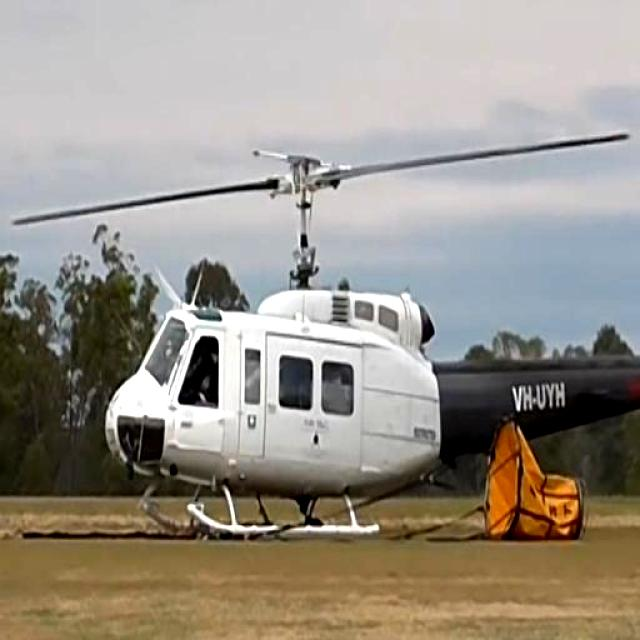drone: (0, 92, 640, 540)
